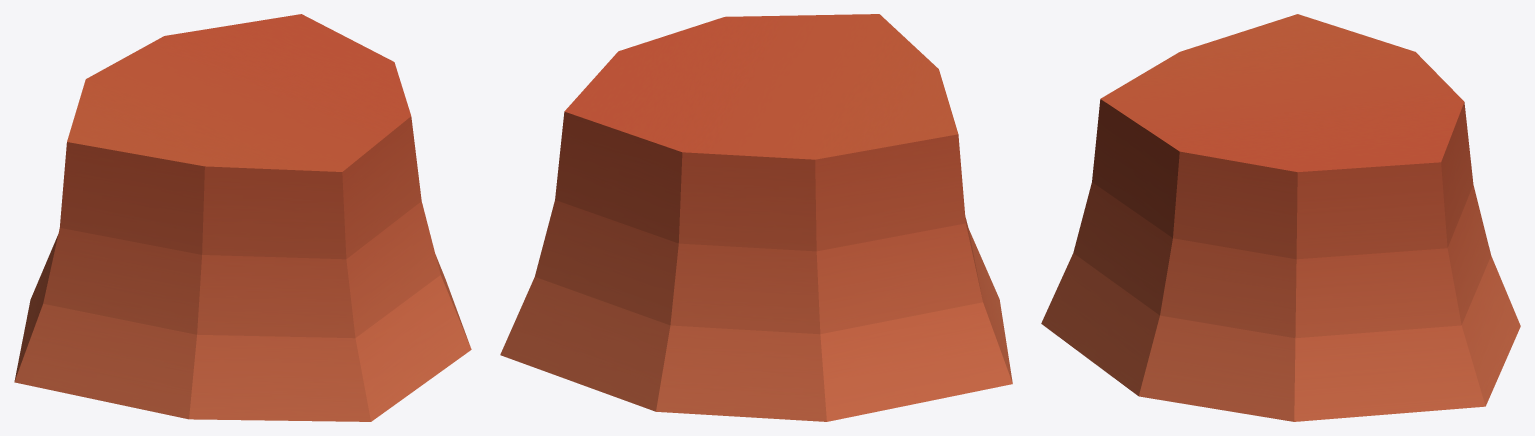
File: Red_cliff4.fbx
The picture shows the model from 3 angles, left to right: view 1: azimuth 30°, elevation 25°; view 2: azimuth 150°, elevation 25°; view 3: azimuth 270°, elevation 25°; orthographic projection. The views are drawn at different scales.
Parts seen in each view (by area): view 1: cliff4; view 2: cliff4; view 3: cliff4.
Part boxes in pixels (x1,y1,x2,y2): cliff4: (14, 14, 471, 421); cliff4: (500, 14, 1012, 421); cliff4: (1041, 14, 1520, 421).
Bounding box in the file's own units: 4.11 × 2.09 × 4.02.
